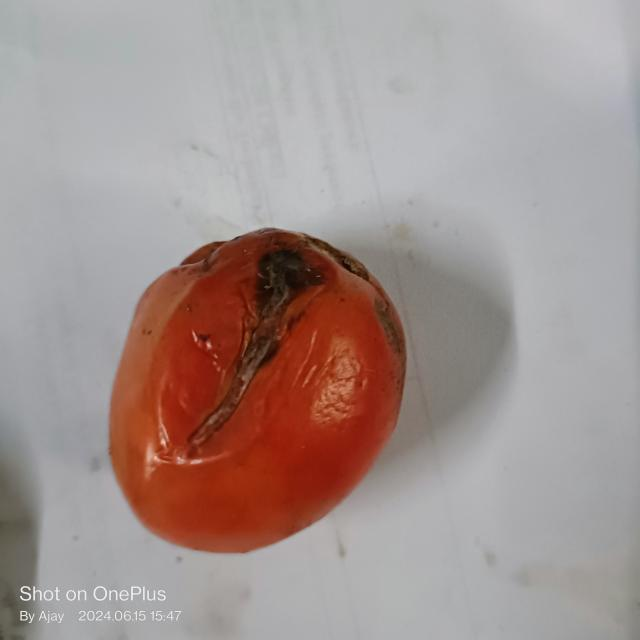Botrytis: (185, 330, 286, 444), (240, 242, 330, 318)
